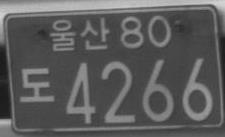0: (147, 14, 172, 48)
2: (101, 60, 135, 123)
4: (65, 62, 96, 123)
6: (180, 58, 213, 121), (142, 58, 174, 122)
8: (120, 15, 144, 49)
도: (20, 66, 55, 102)
울산_O: (50, 16, 110, 51)
